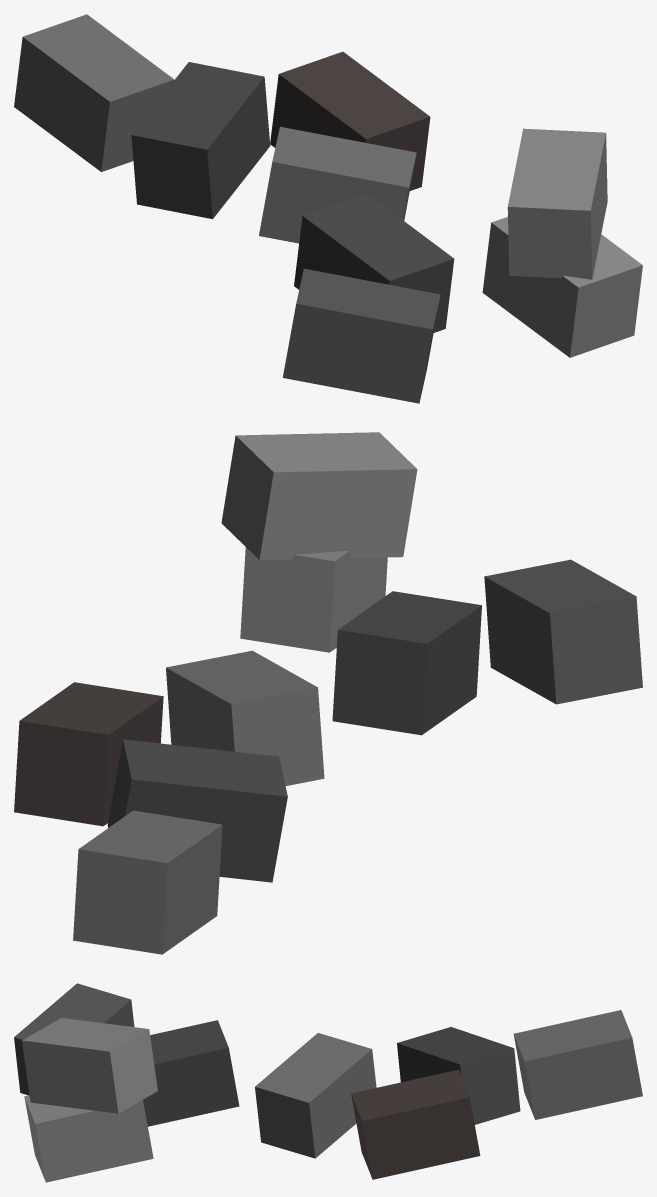
File: rubbish_5.fbx
The picture shows the model from 3 angles, top to bottom: view 1: azimuth 30°, elevation 25°; view 2: azimuth 150°, elevation 25°; view 3: azimuth 270°, elevation 25°; orthographic projection. The views are drawn at different scales.
Visible parts, largest first — view 1: Object.036; view 2: Object.036; view 3: Object.036.
Boxes of the visible parts, bbox=[...] form: Object.036: bbox=[14, 14, 642, 403]; Object.036: bbox=[14, 432, 642, 954]; Object.036: bbox=[14, 983, 642, 1182].
Size of the model in its own units: 288 by 135 by 568.
